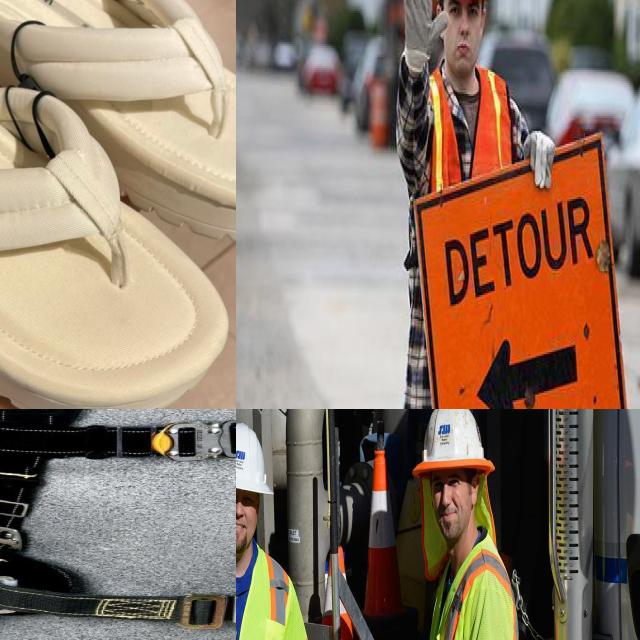Harness: (0, 409, 236, 640)
No_Ear-Protection: (469, 471, 481, 511)
No_Glasses: (428, 469, 465, 502), (445, 0, 482, 29)
Sandals: (0, 0, 236, 409)
face_nomask: (427, 468, 468, 540), (236, 488, 258, 558)
hand_glove: (401, 0, 448, 81), (525, 112, 558, 196)
head_helmet: (413, 409, 500, 482), (236, 415, 279, 497)
person: (394, 0, 539, 409), (383, 409, 556, 640), (236, 416, 314, 640)
vest: (429, 65, 511, 312), (423, 543, 538, 640)
